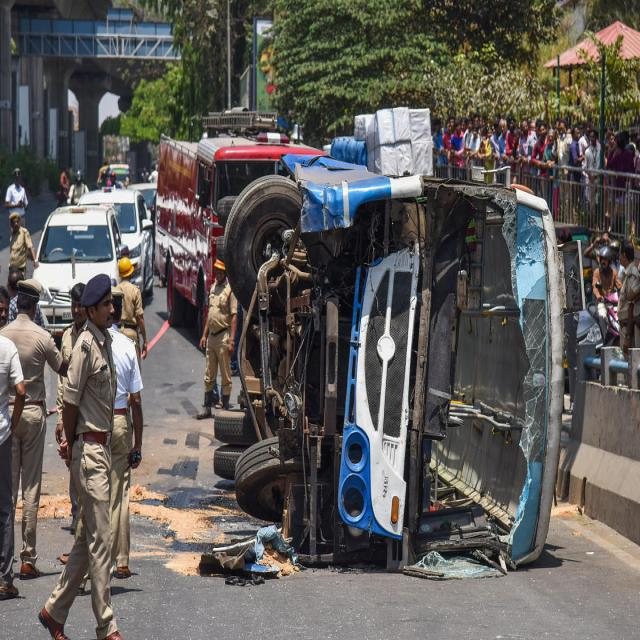accident: (211, 154, 582, 566)
car: (32, 206, 125, 334), (80, 189, 154, 294)
emergency: (155, 109, 311, 333)
motorcycle: (592, 246, 621, 347)
